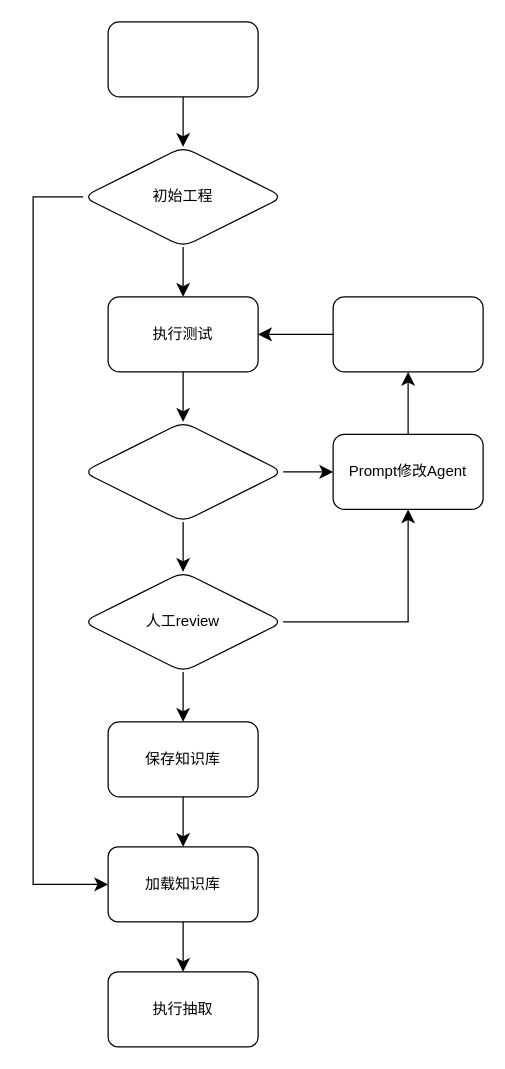
This 505x1069 diagram has some shape labels left out. The centre of each missing label's shape, as x and y in pixels:
人工修改: [407,334]
审计Agent: [182,471]
用户初始prompt: [182,59]
